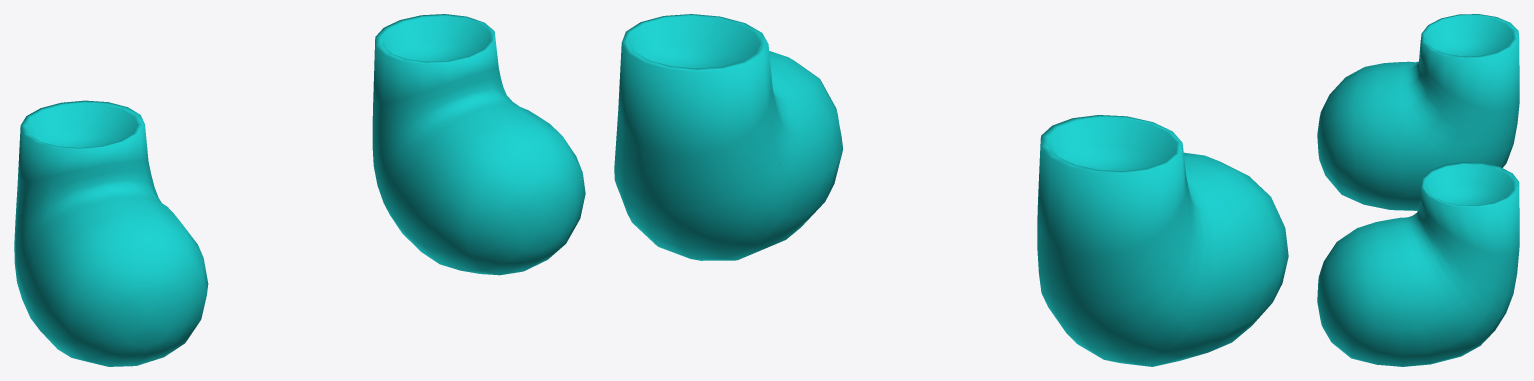
File: Shoes.fbx
The picture shows the model from 3 angles, left to right: view 1: azimuth 30°, elevation 25°; view 2: azimuth 150°, elevation 25°; view 3: azimuth 270°, elevation 25°; orthographic projection. The views are drawn at different scales.
Parts seen in each view (by area): view 1: Shoes; view 2: Shoes; view 3: Shoes.
Boxes of the visible parts, x1,y1,x2,y2 form: Shoes: (14,14,585,366); Shoes: (614,14,1288,366); Shoes: (1317,14,1519,366).
Bounding box in the file's own units: 0.1217 × 0.0466 × 0.043.
